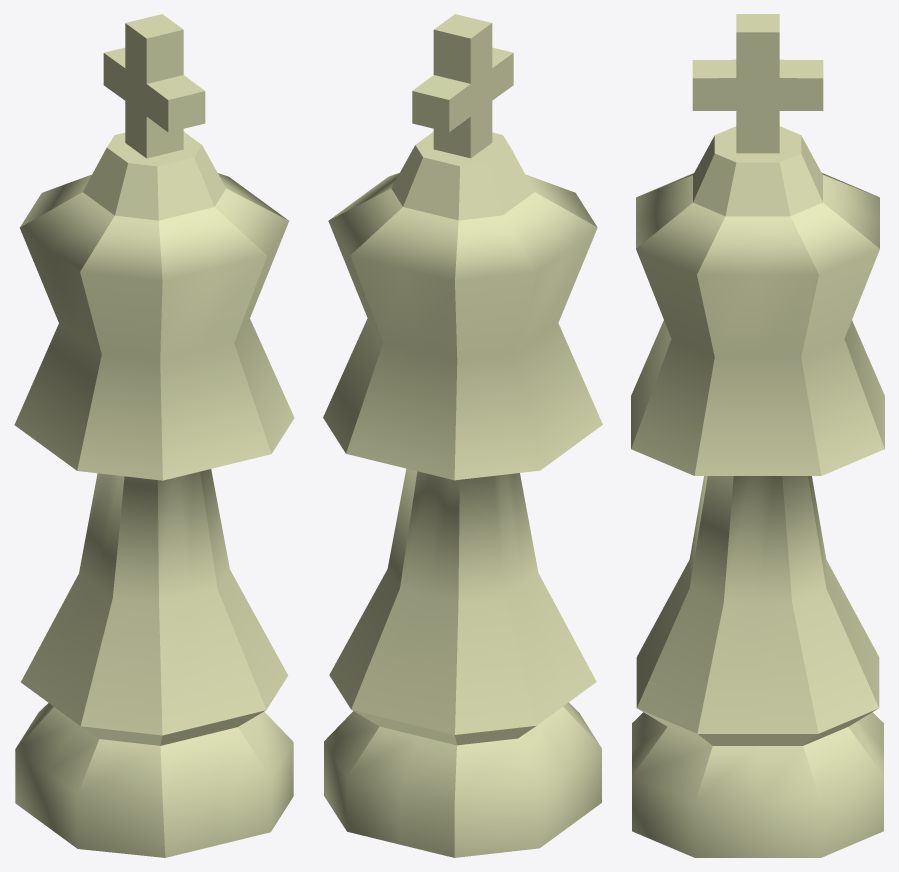
Rendered from King.fbx.
3 renders of one model, left to right at view 1: azimuth 30°, elevation 25°; view 2: azimuth 150°, elevation 25°; view 3: azimuth 270°, elevation 25°, orthographic.
Parts seen in each view (by area): view 1: King; view 2: King; view 3: King.
Boxes of the visible parts, <box> form: King: <box>14,14,294,857</box>; King: <box>323,14,602,857</box>; King: <box>631,14,884,857</box>.
Bounding box in the file's own units: 1.01 × 3.42 × 1.01.
